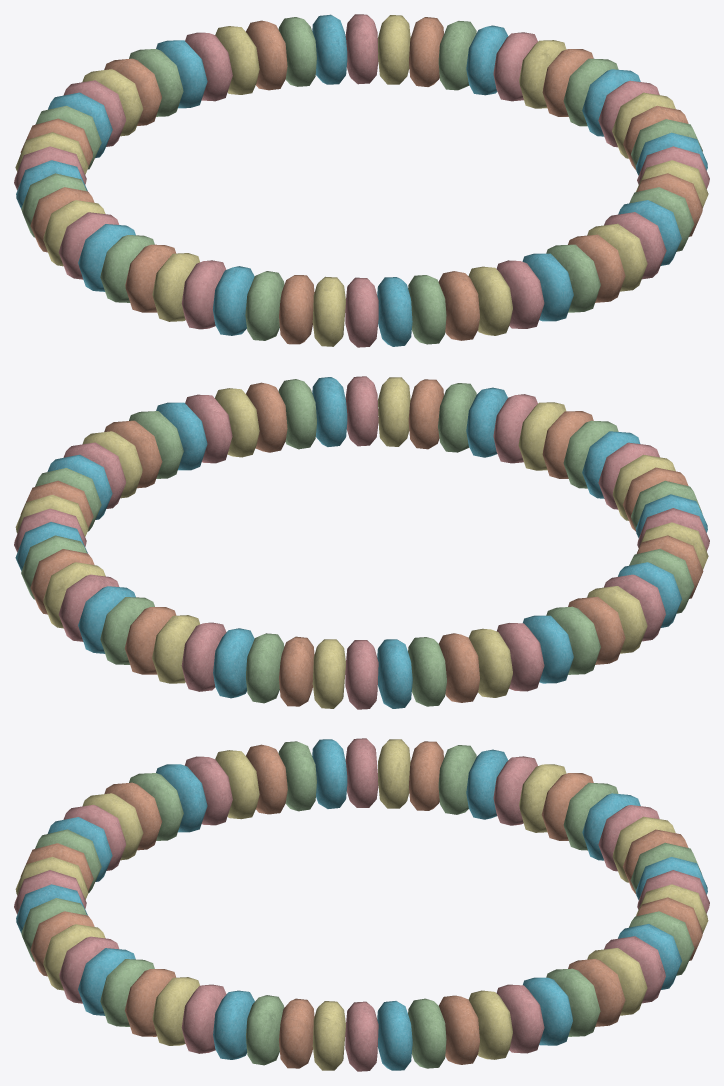
Rendered from CandyChoker.fbx.
The picture shows the model from 3 angles, top to bottom: view 1: azimuth 30°, elevation 25°; view 2: azimuth 150°, elevation 25°; view 3: azimuth 270°, elevation 25°; orthographic projection.
Visible parts, largest first — view 1: candyDone; view 2: candyDone; view 3: candyDone.
Part boxes in pixels (x1,y1,x2,y2): candyDone: (14,14,709,347); candyDone: (14,376,709,709); candyDone: (14,738,709,1071).
Size of the model in its own units: 6.28 by 0.6597 by 6.27.
